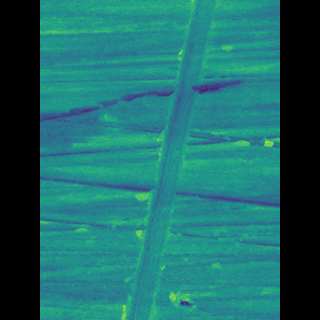Loch: (126, 0, 203, 320), (70, 46, 249, 84), (164, 286, 191, 319)
